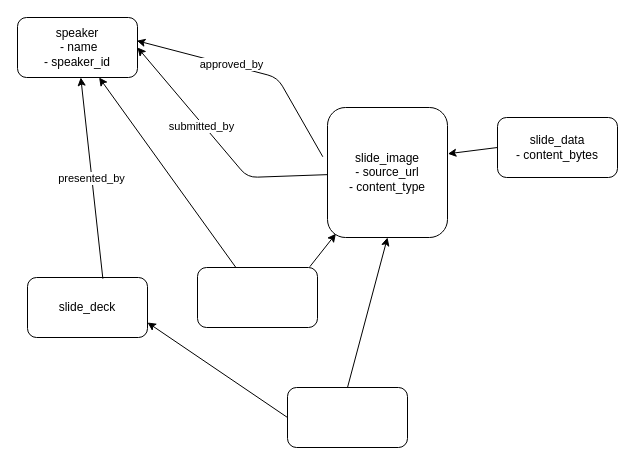
This 635x465 diagram has some shape labels left out. The box of each missing label's shape, as (x1, y1, x2, y2) in pixels:
presented: (196, 266, 318, 328)
slide: (286, 386, 408, 448)
